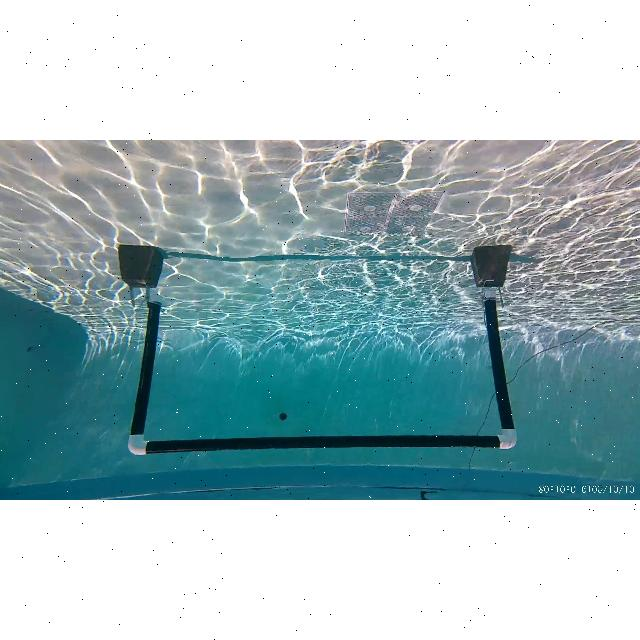prequal gate: (127, 289, 517, 455)
prequal gate leg l: (482, 292, 520, 450)
prequal gate leg r: (127, 289, 163, 453)
